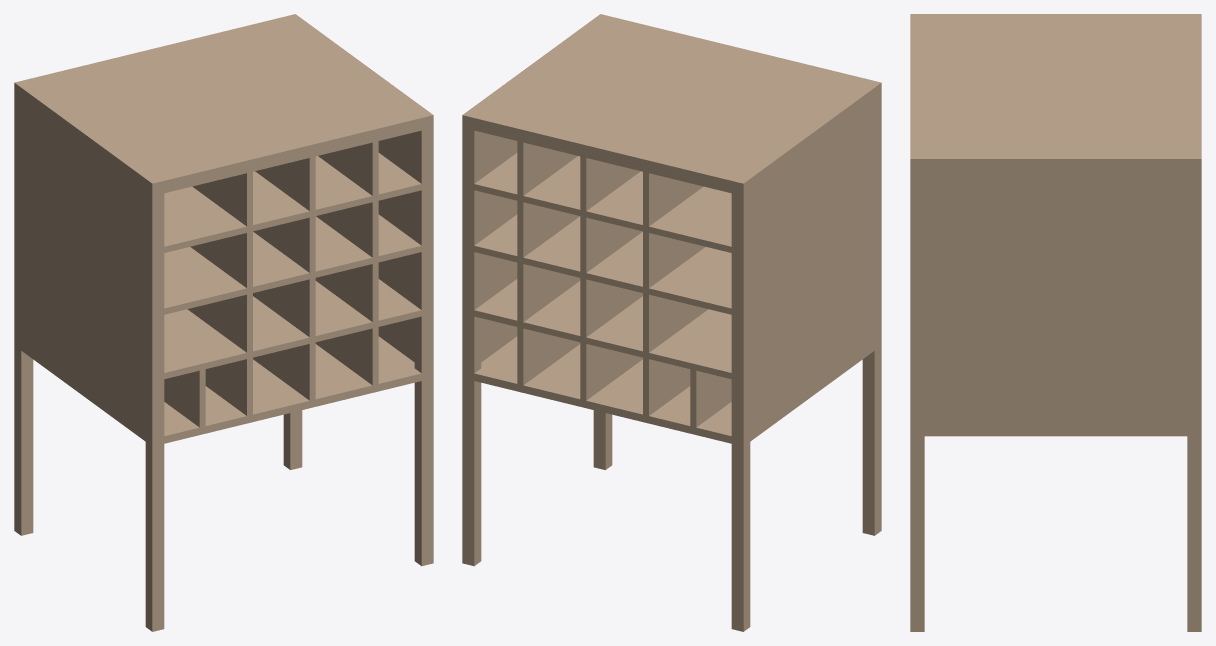
File: storage.dae
3 views of the same model, side by side, from view 1: azimuth 30°, elevation 25°; view 2: azimuth 150°, elevation 25°; view 3: azimuth 270°, elevation 25° (orthographic). The views are drawn at different scales.
Visible parts, largest first — view 1: ShapeIndexedFaceSet; view 2: ShapeIndexedFaceSet; view 3: ShapeIndexedFaceSet.
Part boxes in pixels (x1,y1,x2,y2): ShapeIndexedFaceSet: [14, 14, 433, 631]; ShapeIndexedFaceSet: [462, 14, 881, 631]; ShapeIndexedFaceSet: [910, 14, 1201, 631].
Size of the model in its own units: 1.18 by 1 by 1.79.
